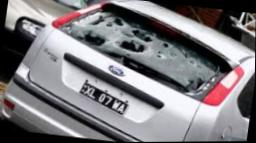Windshield: (57, 7, 230, 100)
